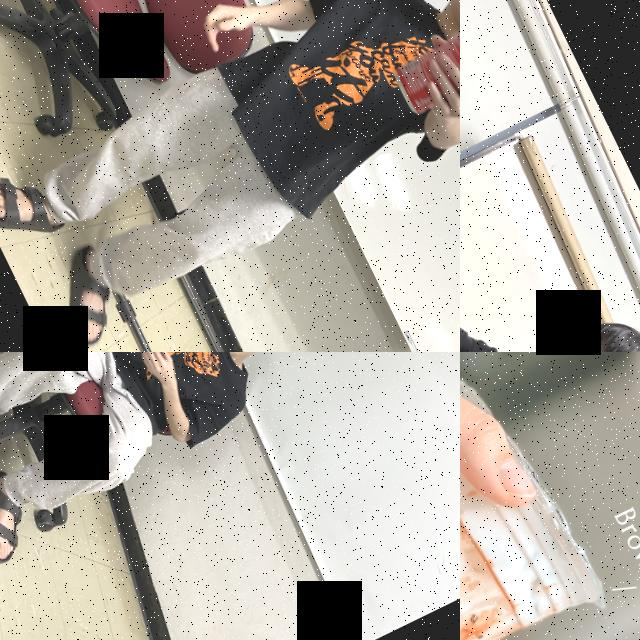can: (385, 14, 460, 118)
cup: (460, 359, 613, 640)
